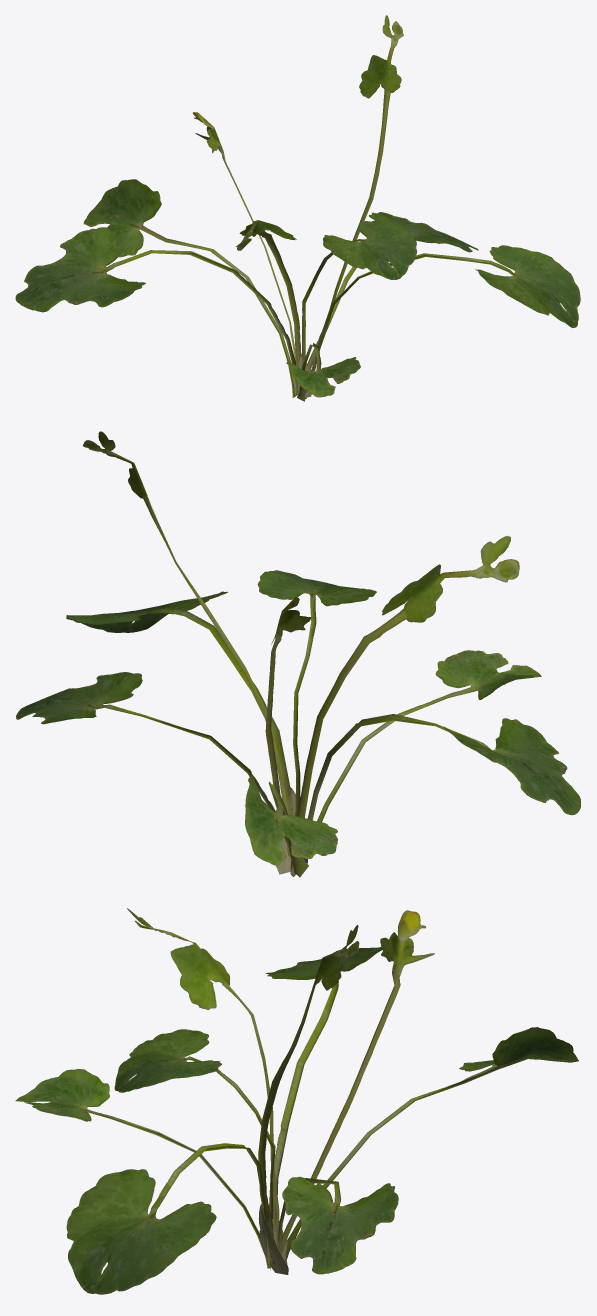
3 renders of one model, top to bottom at view 1: azimuth 30°, elevation 25°; view 2: azimuth 150°, elevation 25°; view 3: azimuth 270°, elevation 25°, orthographic. The views are drawn at different scales.
Visible parts, largest first — view 1: celandine_01__a_lod0; view 2: celandine_01__a_lod0; view 3: celandine_01__a_lod0.
Part boxes in pixels (x1,y1,x2,y2): celandine_01__a_lod0: (15,15,580,401); celandine_01__a_lod0: (16,431,580,877); celandine_01__a_lod0: (15,908,578,1294).
Bounding box in the file's own units: 0.2757 × 0.1859 × 0.2282.
Materials: 1 (1 with a texture image).
